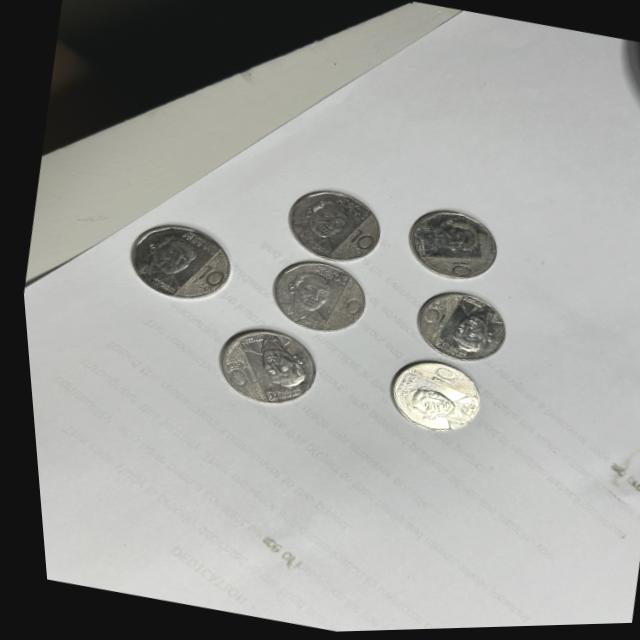10_New_Front: (208, 345, 261, 393), (429, 252, 479, 286), (181, 258, 219, 298), (410, 360, 458, 391), (323, 288, 360, 327), (336, 222, 370, 258), (413, 303, 444, 336)
